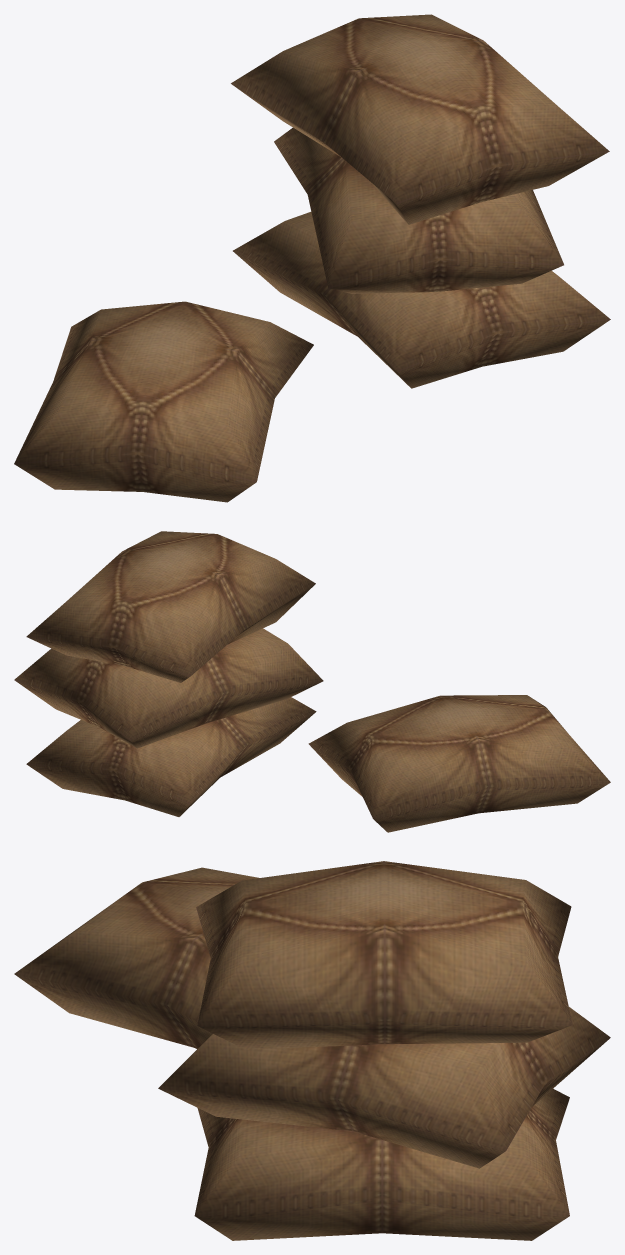
The model's file is Map_05_bag01.FBX.
3 views of the same model, one above another, from view 1: azimuth 30°, elevation 25°; view 2: azimuth 150°, elevation 25°; view 3: azimuth 270°, elevation 25° (orthographic). The views are drawn at different scales.
Parts seen in each view (by area): view 1: Map_05_bag01; view 2: Map_05_bag01; view 3: Map_05_bag01.
Boxes of the visible parts, <box> form: Map_05_bag01: <box>14,14,610,502</box>; Map_05_bag01: <box>14,531,610,832</box>; Map_05_bag01: <box>14,861,610,1240</box>.
Bounding box in the file's own units: 842 × 346 × 597.
